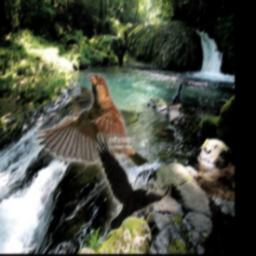Crow: (97, 133, 171, 229)
Cuckoo: (167, 84, 182, 122)
Sparrow: (36, 74, 150, 168)
